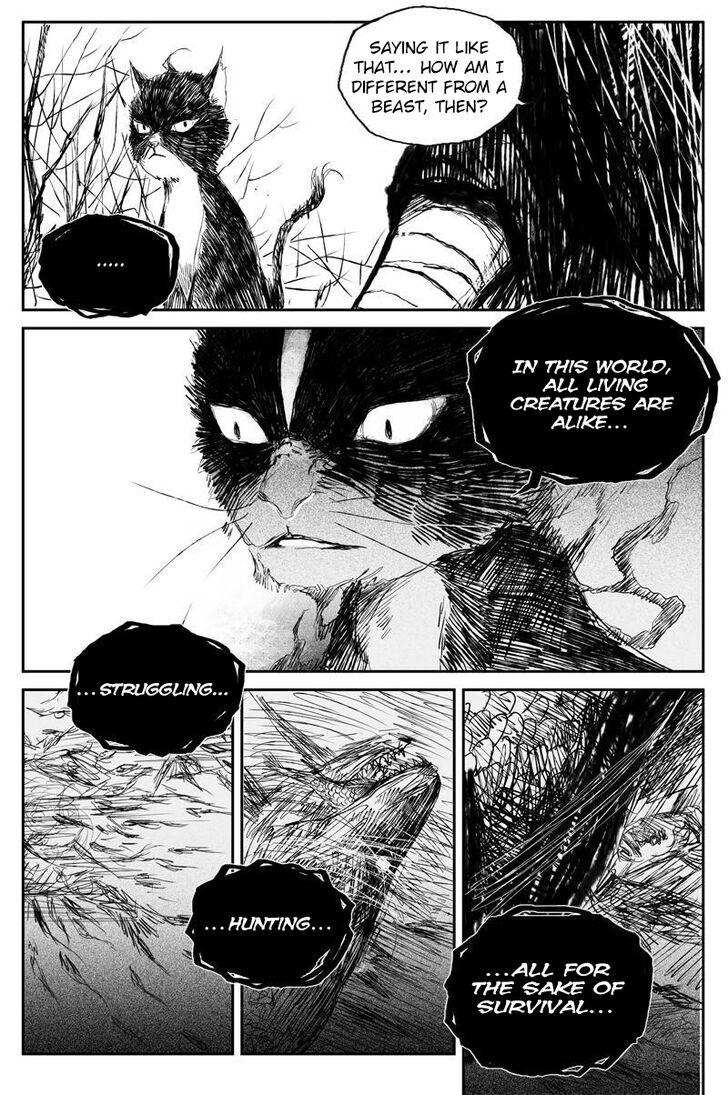Bubble: (464, 293, 722, 488), (443, 904, 655, 1079), (336, 4, 529, 149), (66, 618, 249, 758), (184, 857, 357, 992), (38, 212, 181, 320)
